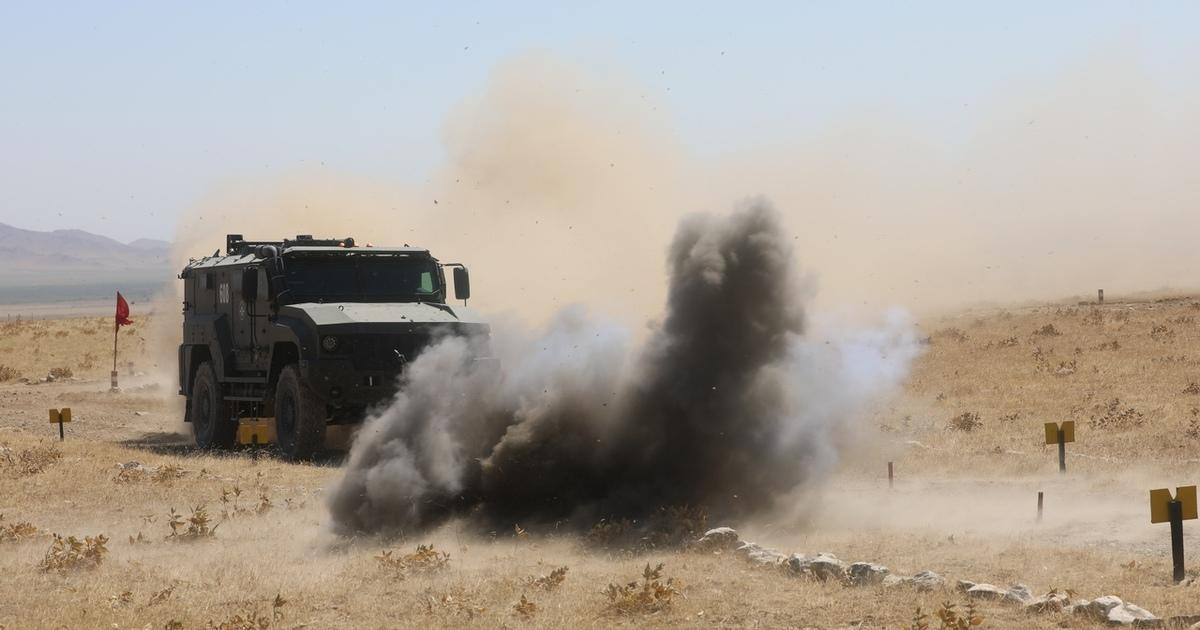armored_car: (177, 233, 491, 462)
